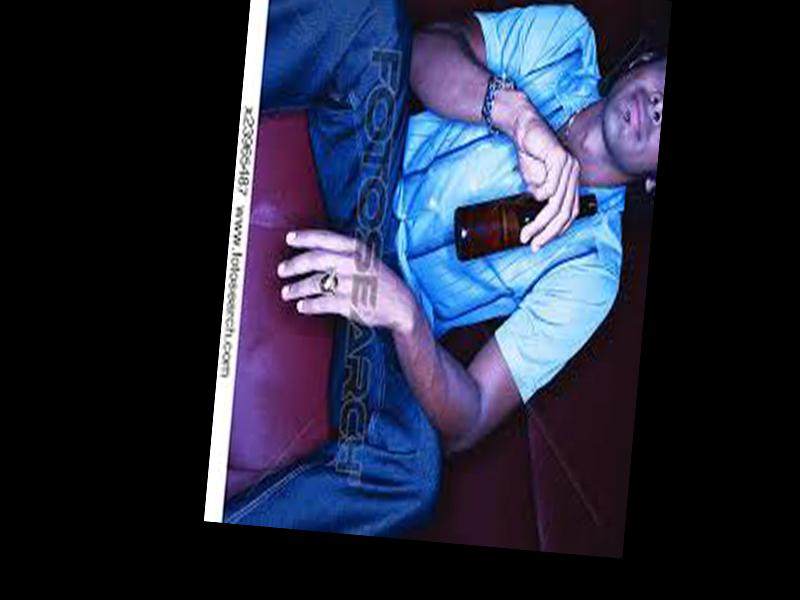Beer: (451, 181, 599, 275)
